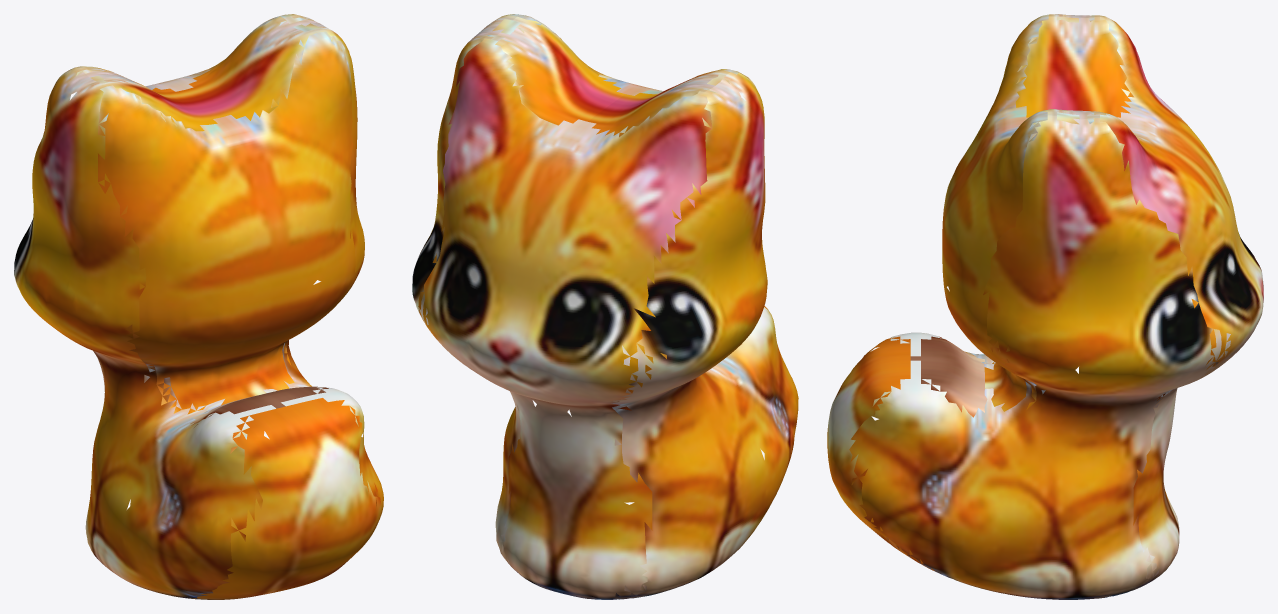
The model's file is Chaton.glb.
3 views of the same model, side by side, from view 1: azimuth 30°, elevation 25°; view 2: azimuth 150°, elevation 25°; view 3: azimuth 270°, elevation 25° (orthographic). The views are drawn at different scales.
Visible parts, largest first — view 1: Chaton; view 2: Chaton; view 3: Chaton.
Part boxes in pixels (x1=…): Chaton: x1=14, y1=14, x2=383, y2=599; Chaton: x1=412, y1=14, x2=798, y2=599; Chaton: x1=827, y1=14, x2=1263, y2=599.
Bounding box in the file's own units: 2.58 × 4.11 × 3.23.
Materials: 1 (1 with a texture image).
